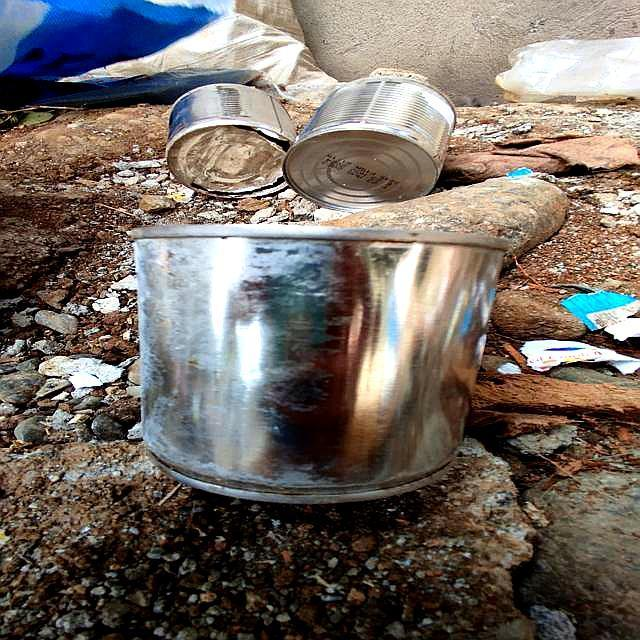Non-biodegradable: (129, 219, 505, 507), (283, 78, 458, 204), (168, 83, 299, 199)
